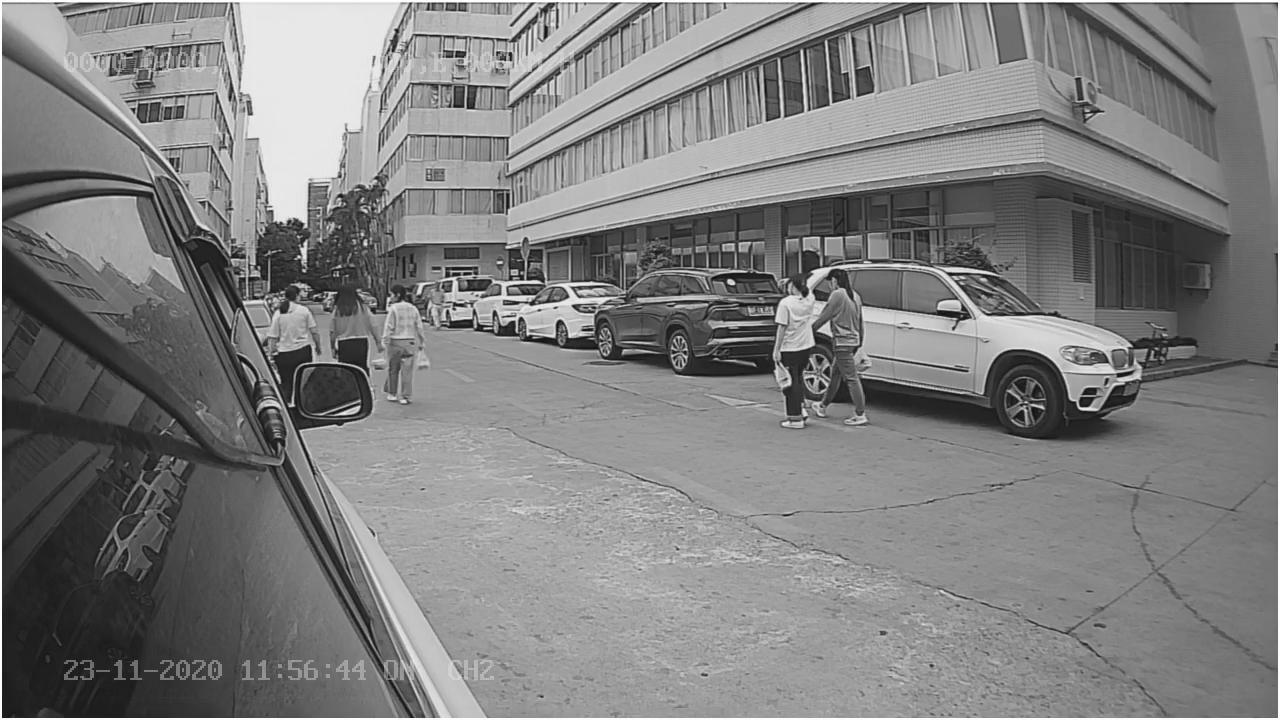person: (813, 268, 875, 426), (768, 268, 817, 426), (378, 281, 431, 409), (322, 275, 380, 357), (267, 280, 322, 355)
